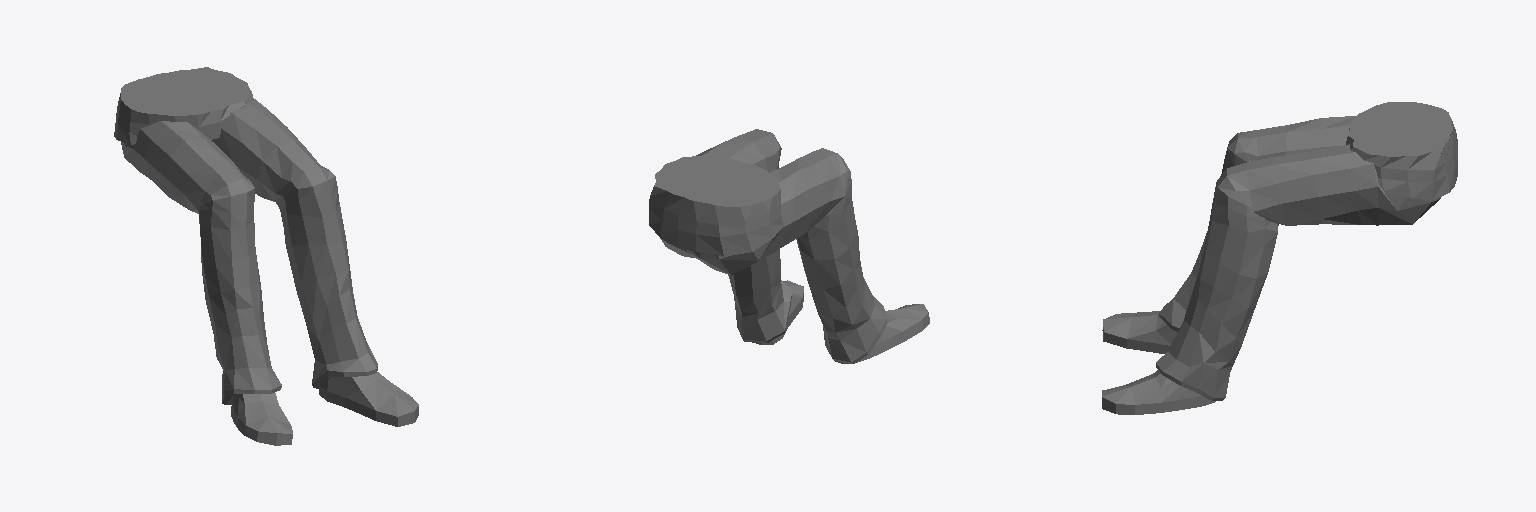
Rendered from piernas.obj.
3 renders of one model, left to right at view 1: azimuth 30°, elevation 25°; view 2: azimuth 150°, elevation 25°; view 3: azimuth 270°, elevation 25°, orthographic.
Visible parts, largest first — view 1: Object01; view 2: Object01; view 3: Object01.
Boxes of the visible parts, <box> form: Object01: <box>114,67,418,445</box>; Object01: <box>649,129,929,363</box>; Object01: <box>1102,102,1457,414</box>.
Size of the model in its own units: 48.84 by 67.8 by 90.29.